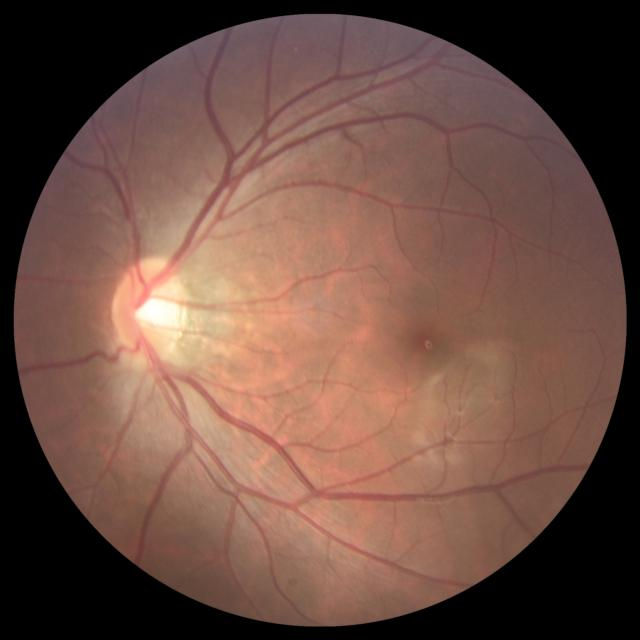OC: (132, 287, 172, 334)
OD: (110, 253, 190, 370)
